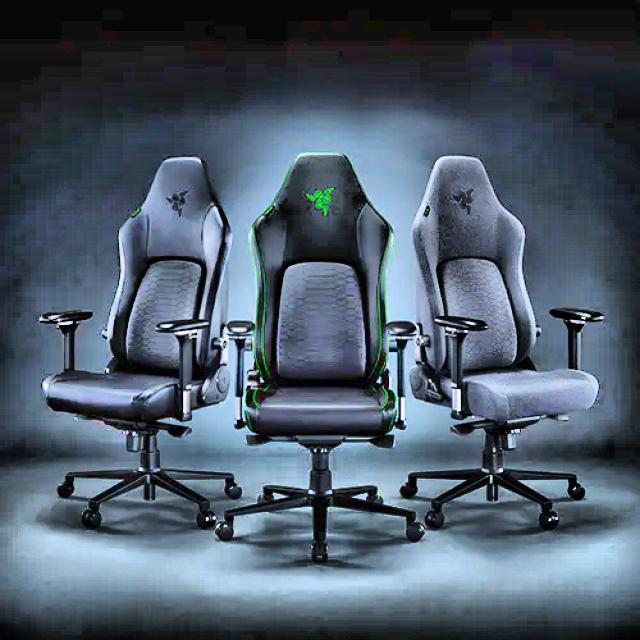cadeira: (210, 151, 428, 568), (400, 137, 602, 538), (45, 156, 242, 542)
